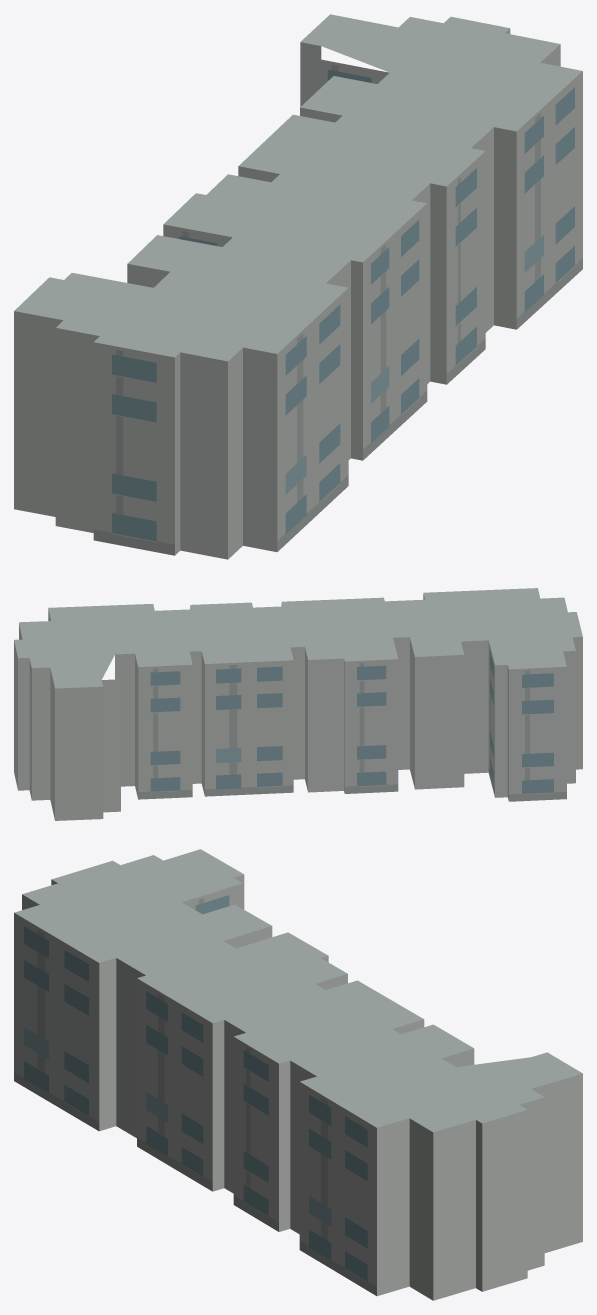
File: residential-2ee9512a-88d0-45ec-aa94-2eae21385a1c.glb
3 views of the same model, one above another, from view 1: azimuth 30°, elevation 25°; view 2: azimuth 150°, elevation 25°; view 3: azimuth 270°, elevation 25° (orthographic). The views are drawn at different scales.
Visible parts, largest first — view 1: residential-2ee9512a-88d0-45ec-aa94-2eae21385a1c.tmp; view 2: residential-2ee9512a-88d0-45ec-aa94-2eae21385a1c.tmp; view 3: residential-2ee9512a-88d0-45ec-aa94-2eae21385a1c.tmp.
Boxes of the visible parts, <box> form: residential-2ee9512a-88d0-45ec-aa94-2eae21385a1c.tmp: <box>14,14,582,559</box>; residential-2ee9512a-88d0-45ec-aa94-2eae21385a1c.tmp: <box>14,588,582,820</box>; residential-2ee9512a-88d0-45ec-aa94-2eae21385a1c.tmp: <box>14,849,582,1300</box>.
Bounding box in the file's own units: 55.04 × 15.25 × 46.7.
